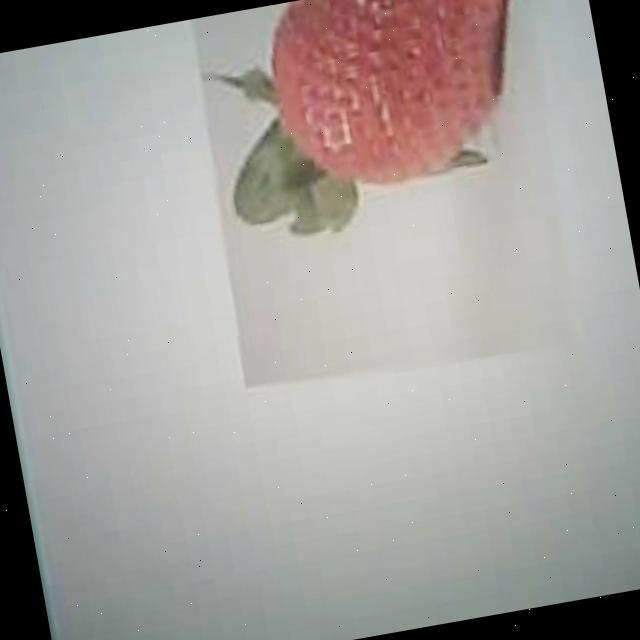strawberry: (244, 0, 546, 201)
